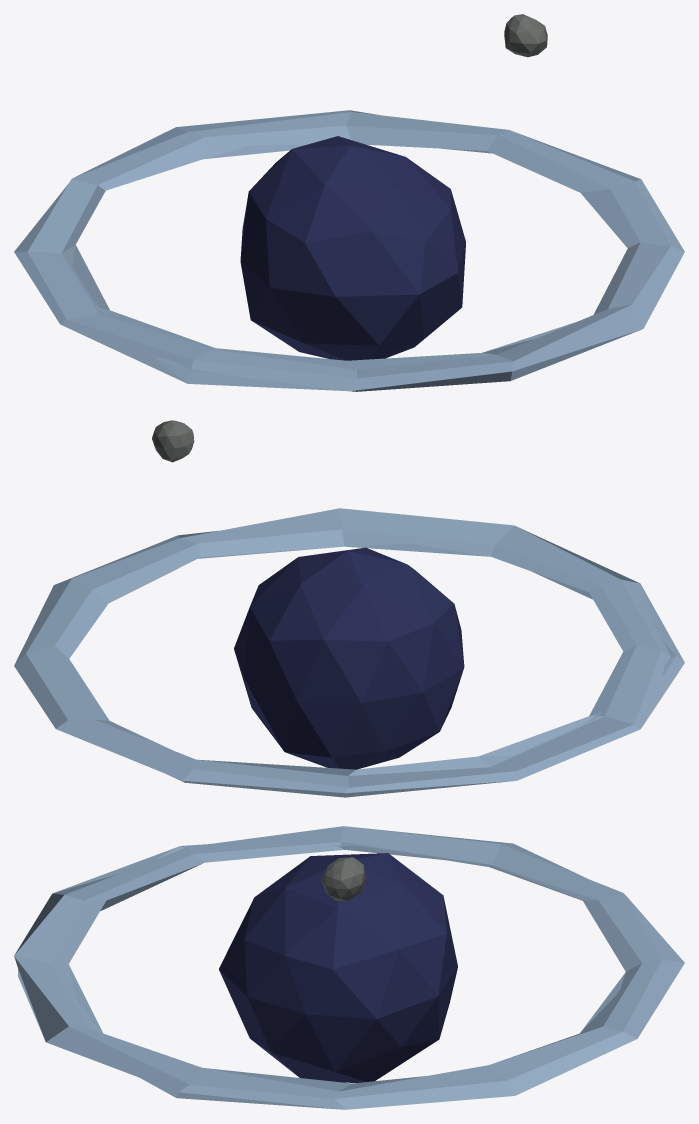
File: planet06.fbx
The picture shows the model from 3 angles, top to bottom: view 1: azimuth 30°, elevation 25°; view 2: azimuth 150°, elevation 25°; view 3: azimuth 270°, elevation 25°; orthographic projection.
Parts seen in each view (by area): view 1: Icosphere; view 2: Icosphere; view 3: Icosphere.
Part boxes in pixels (x1,y1,x2,y2): Icosphere: [14, 14, 684, 391]; Icosphere: [14, 420, 684, 797]; Icosphere: [14, 826, 684, 1109].
Bounding box in the file's own units: 10.43 × 10.35 × 5.13.
